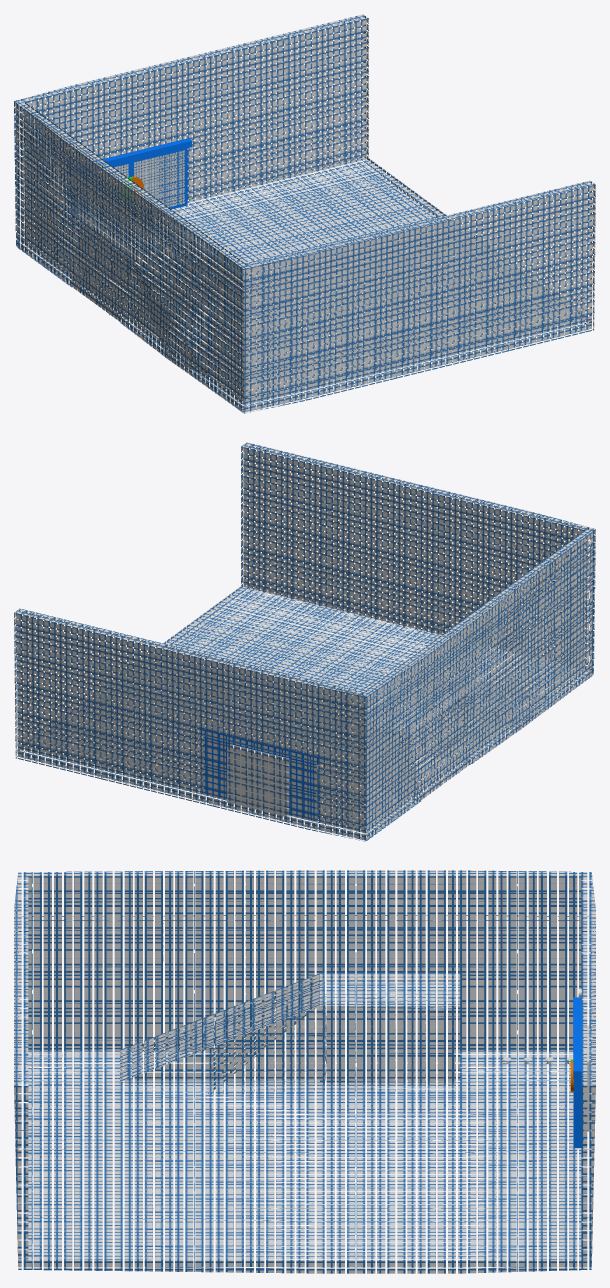
Rendered from Loca2.fbx.
The picture shows the model from 3 angles, top to bottom: view 1: azimuth 30°, elevation 25°; view 2: azimuth 150°, elevation 25°; view 3: azimuth 270°, elevation 25°; orthographic projection. The views are drawn at different scales.
Parts seen in each view (by area): view 1: Plane, Cube.001, Cube.005, Cube, Cube.002; view 2: Plane, Cube.002, Cube, Cube.001; view 3: Plane, Cube.005, Cube.001.
Part boxes in pixels (x1,y1,x2,y2): Plane: [14, 14, 595, 413]; Cube.001: [131, 148, 187, 217]; Cube.005: [69, 138, 192, 175]; Cube: [71, 162, 131, 232]; Cube.002: [99, 156, 158, 216]; Plane: [14, 442, 595, 841]; Cube.002: [227, 744, 289, 816]; Cube: [259, 748, 318, 820]; Cube.001: [203, 734, 259, 799]; Plane: [14, 870, 595, 1273]; Cube.005: [573, 997, 581, 1079]; Cube.001: [574, 1042, 583, 1148].
Size of the model in its own units: 2387 by 967 by 2720.
